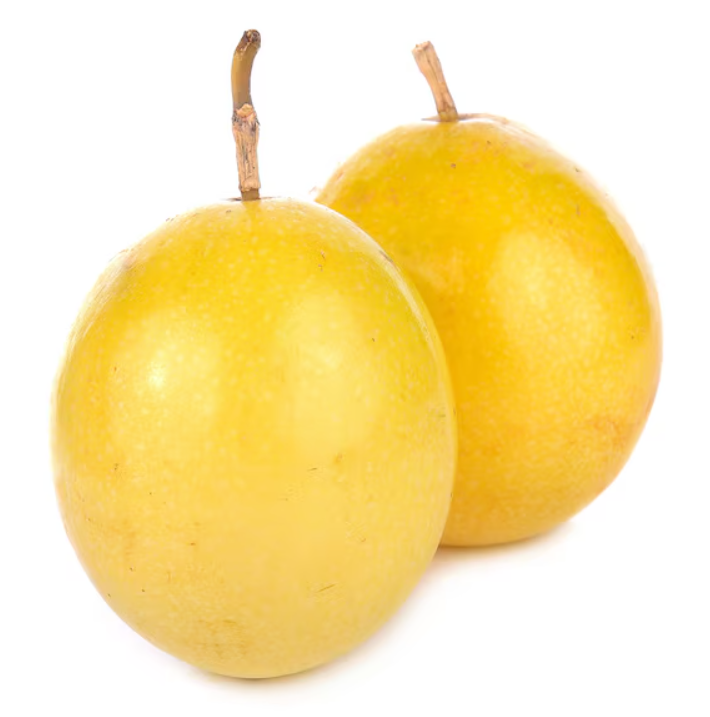maracuya: (28, 180, 473, 698), (299, 106, 671, 572)
